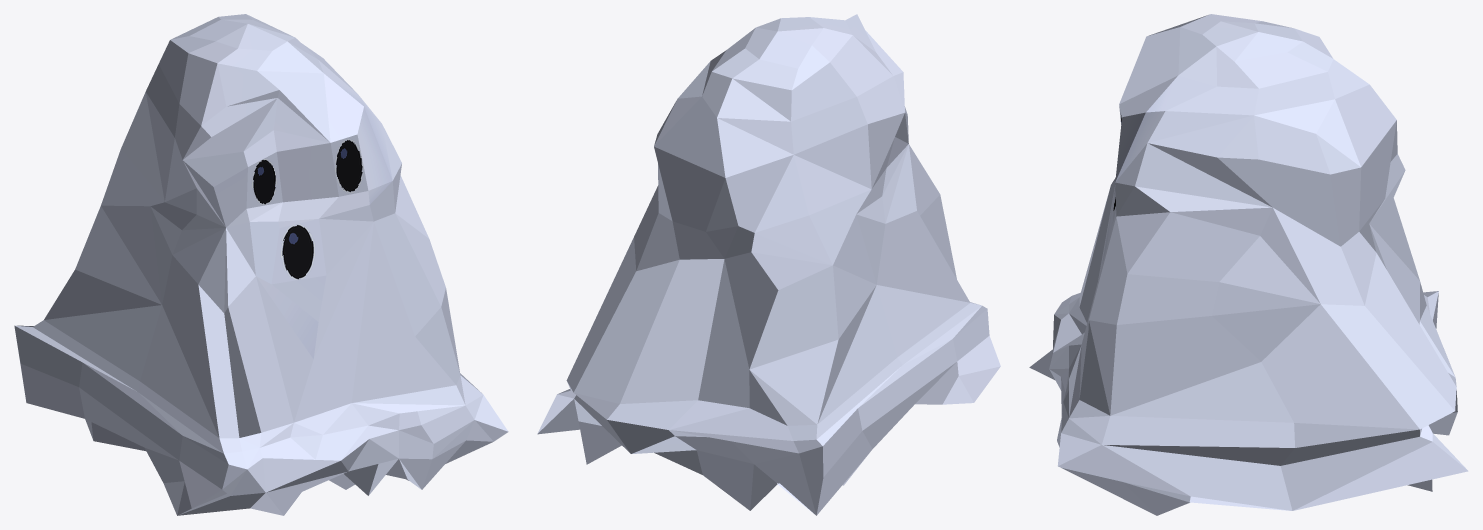
File: 3d-rodriguez-lissy-fantasma.glb
The picture shows the model from 3 angles, left to right: view 1: azimuth 30°, elevation 25°; view 2: azimuth 150°, elevation 25°; view 3: azimuth 270°, elevation 25°; orthographic projection. The views are drawn at different scales.
Visible parts, largest first — view 1: Cube.001; view 2: Cube.001; view 3: Cube.001.
Boxes of the visible parts, <box> form: Cube.001: <box>14,14,508,515</box>; Cube.001: <box>537,14,1000,515</box>; Cube.001: <box>1029,14,1468,515</box>.
Bounding box in the file's own units: 1.4 × 1.9 × 1.75.
Materials: 1 (1 with a texture image).
